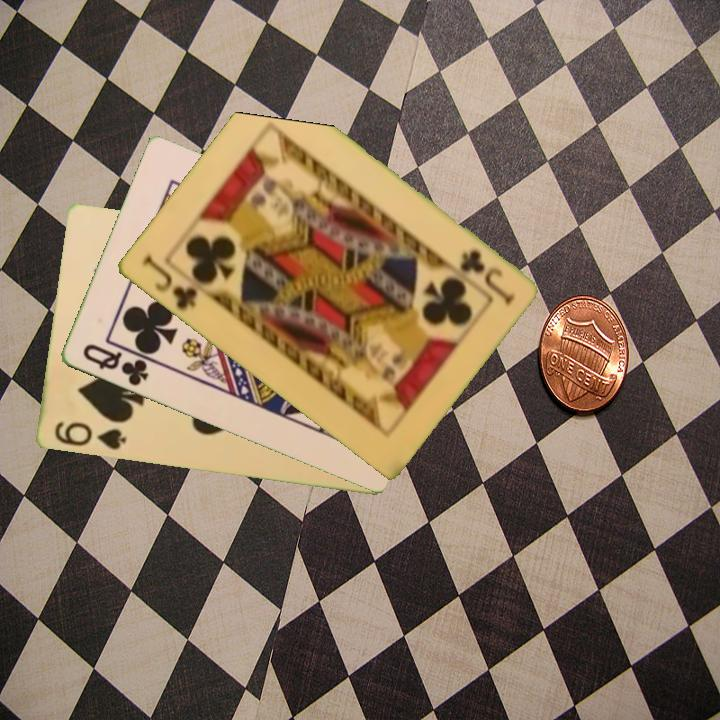6s: (50, 418, 129, 453)
Jc: (138, 252, 201, 313), (455, 246, 518, 307)
Qc: (78, 340, 151, 390)
